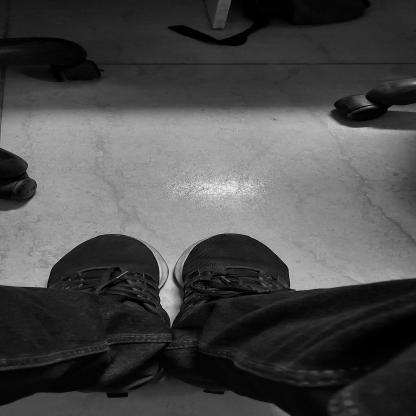ankle: (134, 305, 142, 307), (203, 304, 207, 306)
heel: (178, 317, 182, 319), (167, 324, 169, 326)
left_foot: (50, 235, 172, 329)
pinky: (262, 247, 269, 252), (74, 251, 85, 254)
right_foot: (176, 235, 291, 322)
toe: (137, 243, 145, 248), (200, 243, 209, 247)
